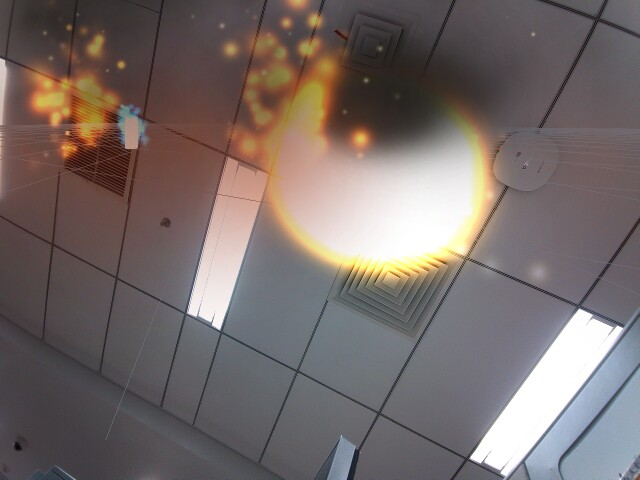fire: (261, 65, 494, 274)
